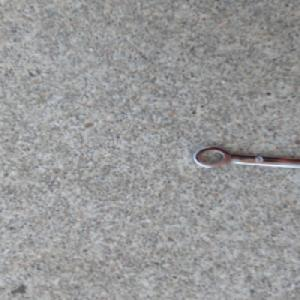Wrench: (190, 145, 300, 171)
